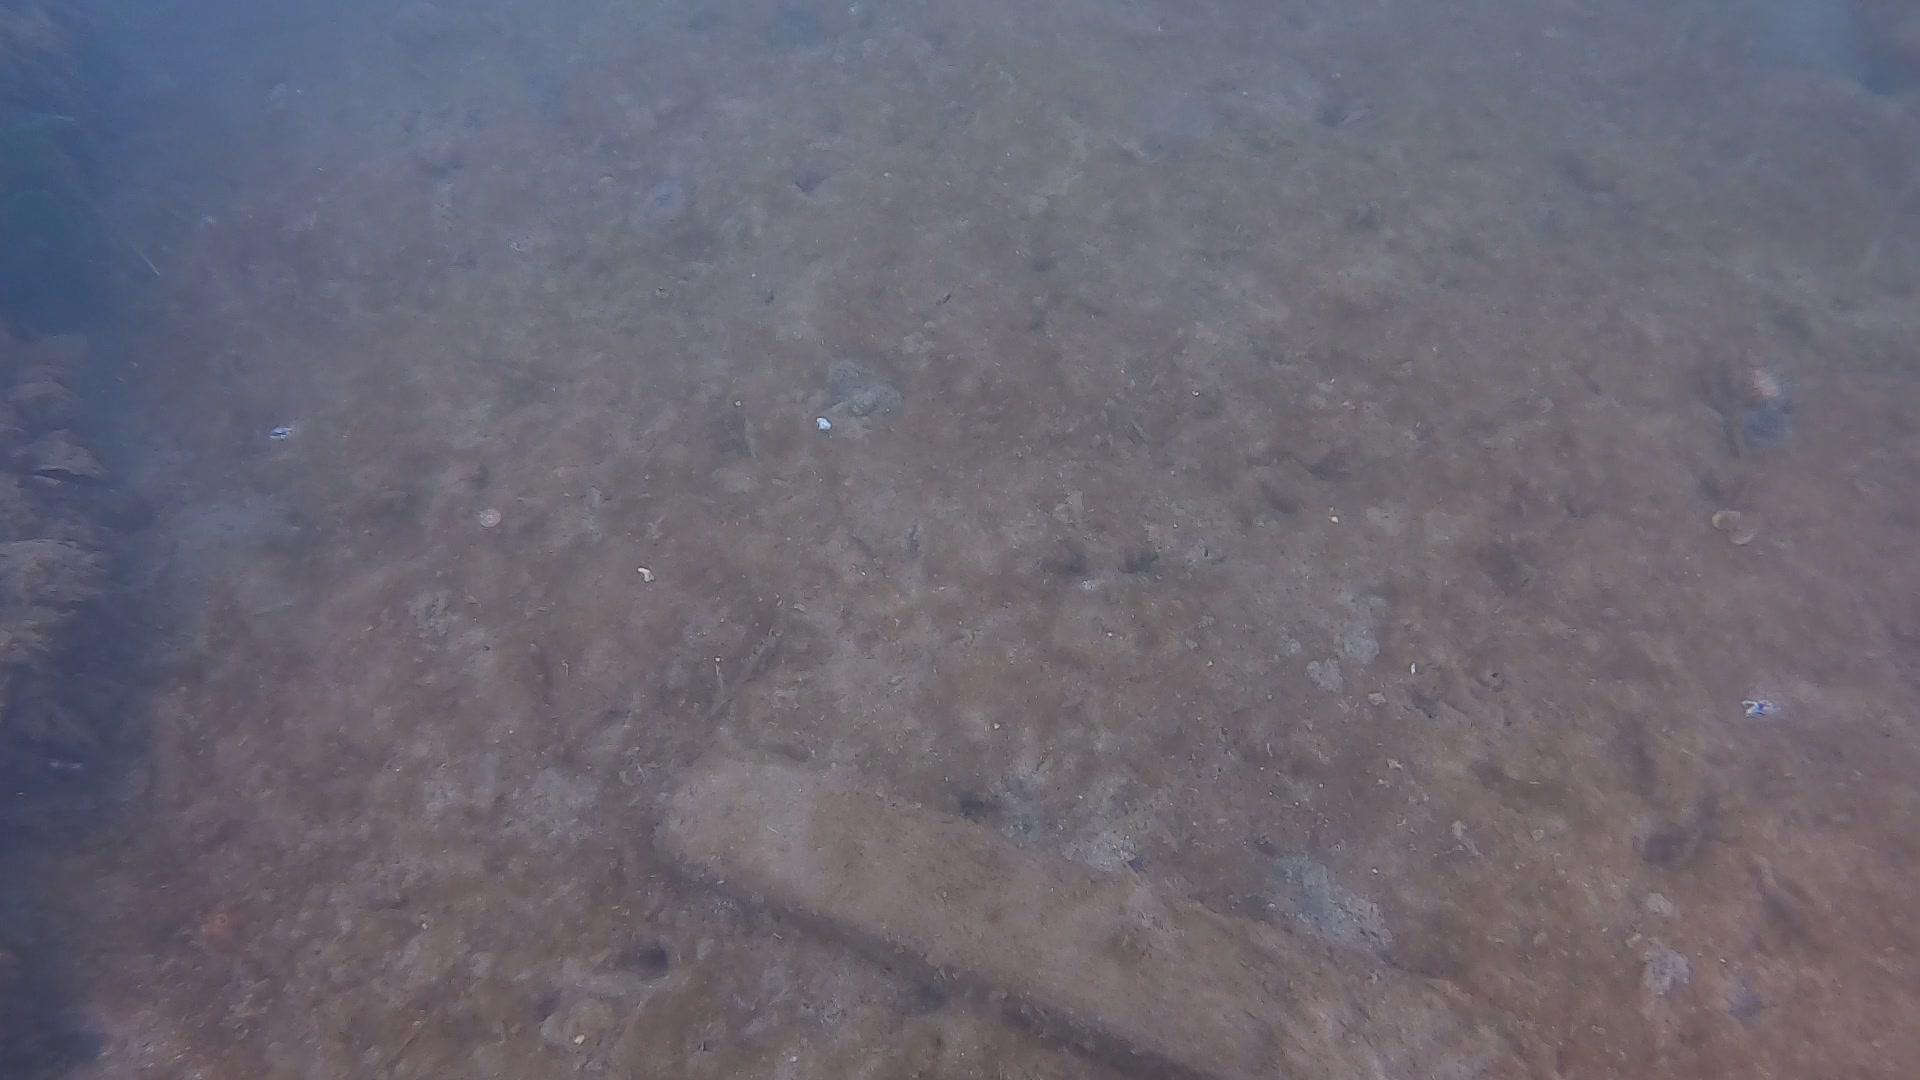wood: (644, 752, 1480, 1080)
